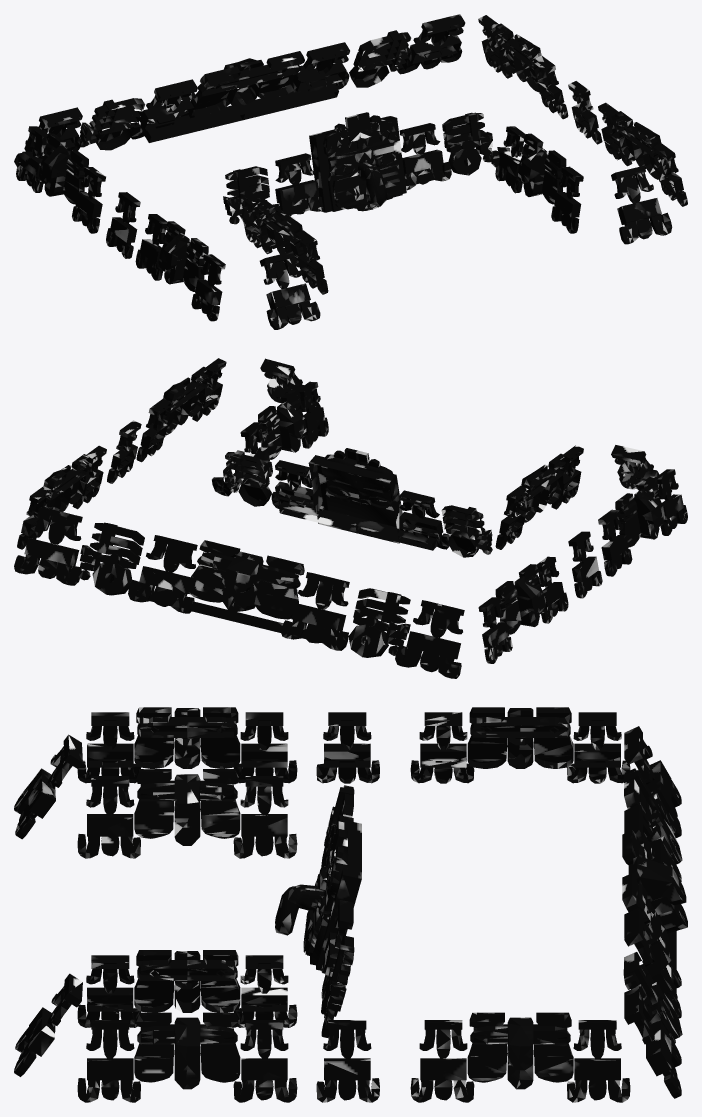
Rendered from barracks_masks_2.dae.
3 renders of one model, top to bottom at view 1: azimuth 30°, elevation 25°; view 2: azimuth 150°, elevation 25°; view 3: azimuth 270°, elevation 25°, orthographic. The views are drawn at different scales.
Parts seen in each view (by area): view 1: barracks_masks_2; view 2: barracks_masks_2; view 3: barracks_masks_2.
Boxes of the visible parts, x1,y1,x2,y2 form: barracks_masks_2: (14, 14, 687, 329); barracks_masks_2: (14, 358, 687, 678); barracks_masks_2: (14, 707, 687, 1102).
Size of the model in its own units: 18.01 by 15.3 by 3.15.
Materials: 1 (1 with a texture image).
